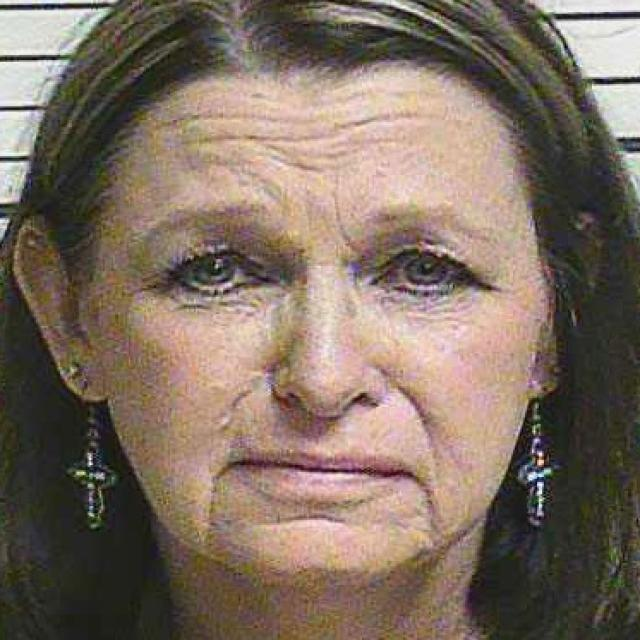Depress: (91, 53, 556, 583)
